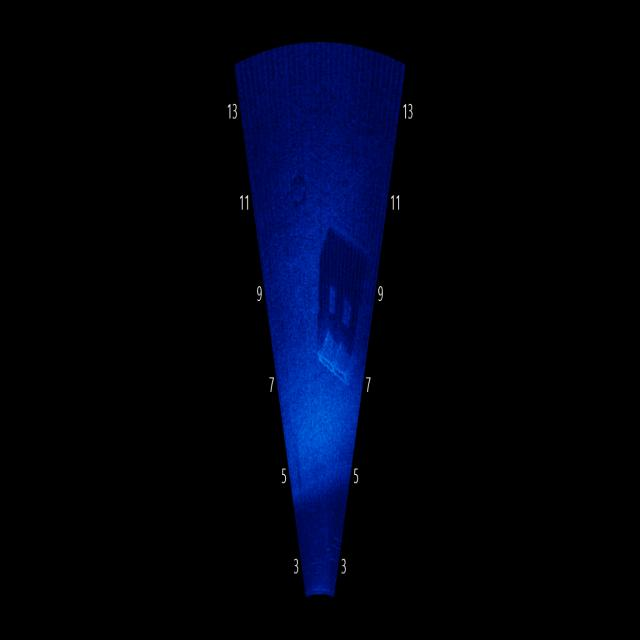square: (308, 303, 364, 393)
